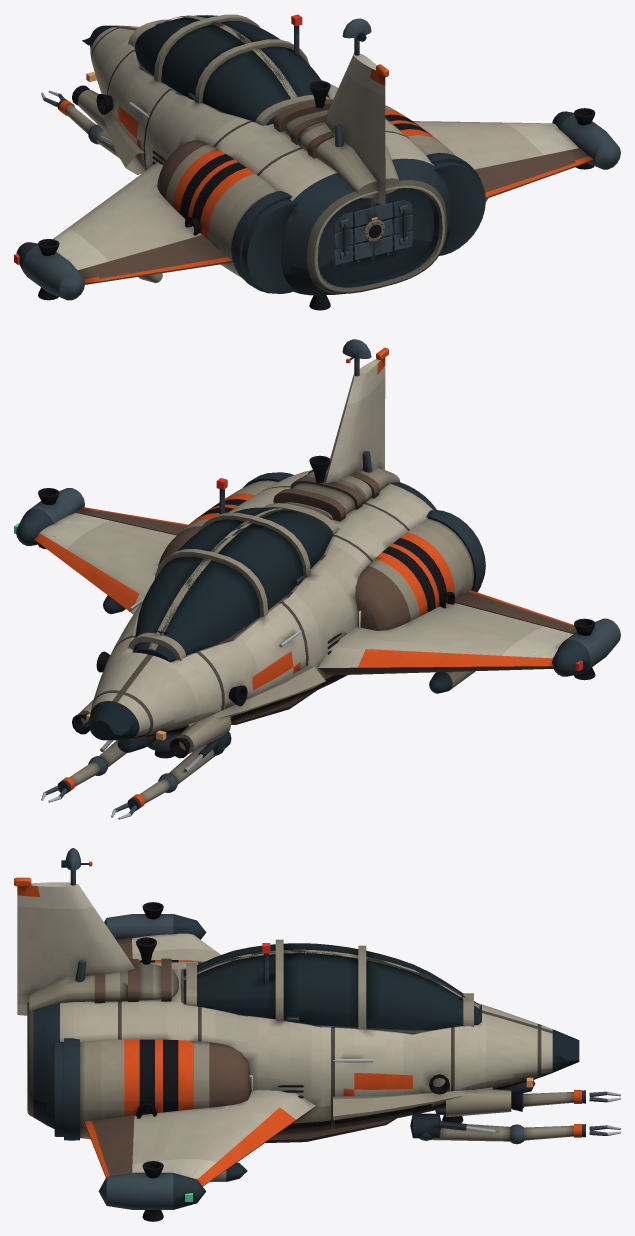
File: ship.glb
3 renders of one model, top to bottom at view 1: azimuth 30°, elevation 25°; view 2: azimuth 150°, elevation 25°; view 3: azimuth 270°, elevation 25°, orthographic.
Parts seen in each view (by area): view 1: ship, canopy, flap_l, flap_r, dish; view 2: ship, canopy, flap_l, flap_r; view 3: ship, canopy, flap_r.
Part boxes in pixels (bbox=[...]): ship: bbox=[14, 14, 620, 310]; canopy: bbox=[128, 14, 330, 125]; flap_l: bbox=[77, 235, 232, 284]; flap_r: bbox=[474, 148, 593, 198]; dish: bbox=[342, 18, 371, 41]; ship: bbox=[14, 347, 620, 819]; canopy: bbox=[128, 503, 338, 662]; flap_l: bbox=[454, 590, 576, 633]; flap_r: bbox=[75, 507, 187, 535]; ship: bbox=[14, 870, 620, 1221]; canopy: bbox=[183, 939, 479, 1029]; flap_r: bbox=[84, 1115, 134, 1177].
Bounding box in the file's own units: 4.88 × 2.57 × 4.56.
